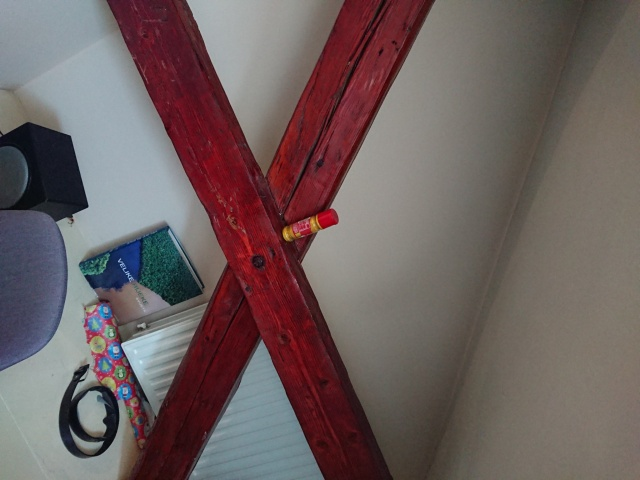Kotanyi Curry Spices Mix 70g: (281, 207, 340, 243)
